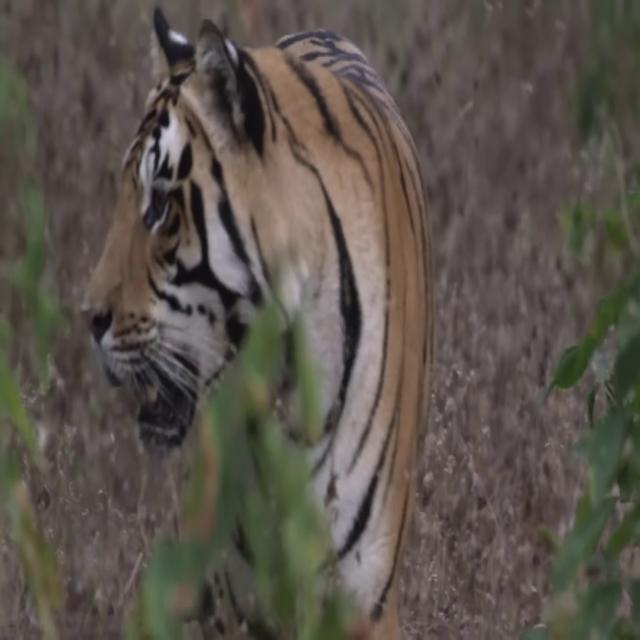tiger: (79, 0, 432, 640)
